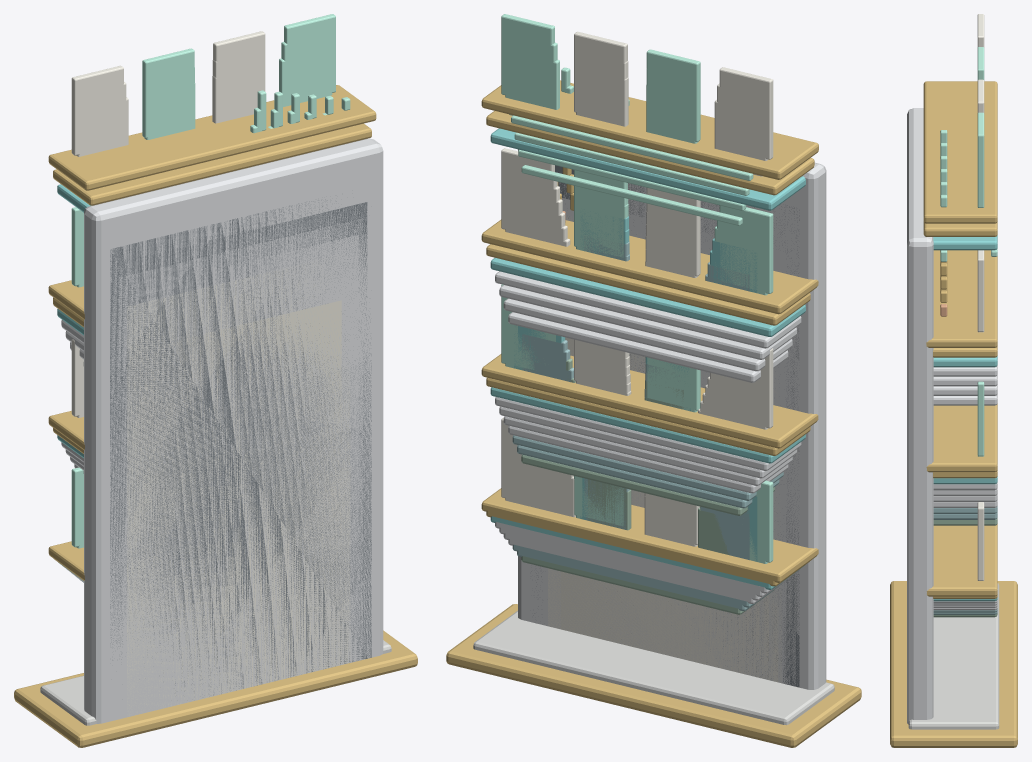
The model's file is Gear01.fbx.
3 views of the same model, side by side, from view 1: azimuth 30°, elevation 25°; view 2: azimuth 150°, elevation 25°; view 3: azimuth 270°, elevation 25° (orthographic). The views are drawn at different scales.
Visible parts, largest first — view 1: Gear01_V10_Platinum, Gear01_V8_Graphite, Gear01_V9_Platinum, Gear01_V3_Linen, Gear01_V5_Platinum, Gear01_V10_Gold, Gear01_V4_Linen, Gear01_V6_Platinum, Gear01_V10_Glow, Gear01_V9_Gold, Gear01_V10_Linen, Gear01_V1_Ivory (+7 smaller); view 2: Gear01_V10_Gold, Gear01_V10_Glow, Gear01_V10_Linen, Gear01_V4_Linen, Gear01_V5_Platinum, Gear01_V10_Platinum, Gear01_V9_Gold, Gear01_V8_Aqua, Gear01_V9_Platinum, Gear01_V9_Glow, Gear01_V3_Linen, Gear01_V6_Platinum (+27 smaller); view 3: Gear01_V10_Gold, Gear01_V10_Platinum, Gear01_V10_Chrome, Gear01_V9_Gold, Gear01_V8_Aqua, Gear01_V10_Glow, Gear01_V10_Linen, Gear01_V7_Chrome, Gear01_V6_Chrome, Gear01_V7_Platinum, Gear01_V6_Platinum, Gear01_V5_Platinum (+5 smaller).
Boxes of the visible parts, left/top/right/bottom form: Gear01_V10_Platinum: left=84, top=138, right=383, bottom=723; Gear01_V8_Graphite: left=110, top=199, right=371, bottom=695; Gear01_V9_Platinum: left=105, top=169, right=375, bottom=720; Gear01_V3_Linen: left=131, top=272, right=350, bottom=712; Gear01_V5_Platinum: left=70, top=235, right=358, bottom=718; Gear01_V10_Gold: left=14, top=85, right=417, bottom=747; Gear01_V4_Linen: left=127, top=259, right=353, bottom=716; Gear01_V6_Platinum: left=65, top=219, right=362, bottom=673; Gear01_V10_Glow: left=71, top=14, right=350, bottom=547; Gear01_V9_Gold: left=23, top=123, right=411, bottom=736; Gear01_V10_Linen: left=71, top=31, right=265, bottom=416; Gear01_V1_Ivory: left=140, top=300, right=341, bottom=672; Gear01_V10_Gold: left=446, top=80, right=861, bottom=747; Gear01_V10_Glow: left=501, top=14, right=773, bottom=562; Gear01_V10_Linen: left=501, top=31, right=773, bottom=544; Gear01_V4_Linen: left=526, top=215, right=781, bottom=682; Gear01_V5_Platinum: left=503, top=198, right=792, bottom=683; Gear01_V10_Platinum: left=518, top=149, right=826, bottom=689; Gear01_V9_Gold: left=453, top=110, right=852, bottom=736; Gear01_V8_Aqua: left=490, top=128, right=805, bottom=589; Gear01_V9_Platinum: left=526, top=183, right=803, bottom=688; Gear01_V9_Glow: left=505, top=35, right=768, bottom=563; Gear01_V3_Linen: left=530, top=353, right=777, bottom=681; Gear01_V6_Platinum: left=499, top=182, right=796, bottom=684; Gear01_V10_Gold: left=890, top=81, right=1017, bottom=747; Gear01_V10_Platinum: left=907, top=108, right=933, bottom=724; Gear01_V10_Chrome: left=908, top=583, right=999, bottom=729; Gear01_V9_Gold: left=890, top=221, right=1016, bottom=736; Gear01_V8_Aqua: left=933, top=235, right=997, bottom=601; Gear01_V10_Glow: left=940, top=47, right=984, bottom=456; Gear01_V10_Linen: left=977, top=14, right=984, bottom=580; Gear01_V7_Chrome: left=933, top=616, right=996, bottom=668; Gear01_V6_Chrome: left=933, top=617, right=997, bottom=685; Gear01_V7_Platinum: left=933, top=365, right=997, bottom=603; Gear01_V6_Platinum: left=933, top=375, right=997, bottom=605; Gear01_V5_Platinum: left=933, top=384, right=997, bottom=607.
Size of the model in its own units: 111 by 196 by 38.
